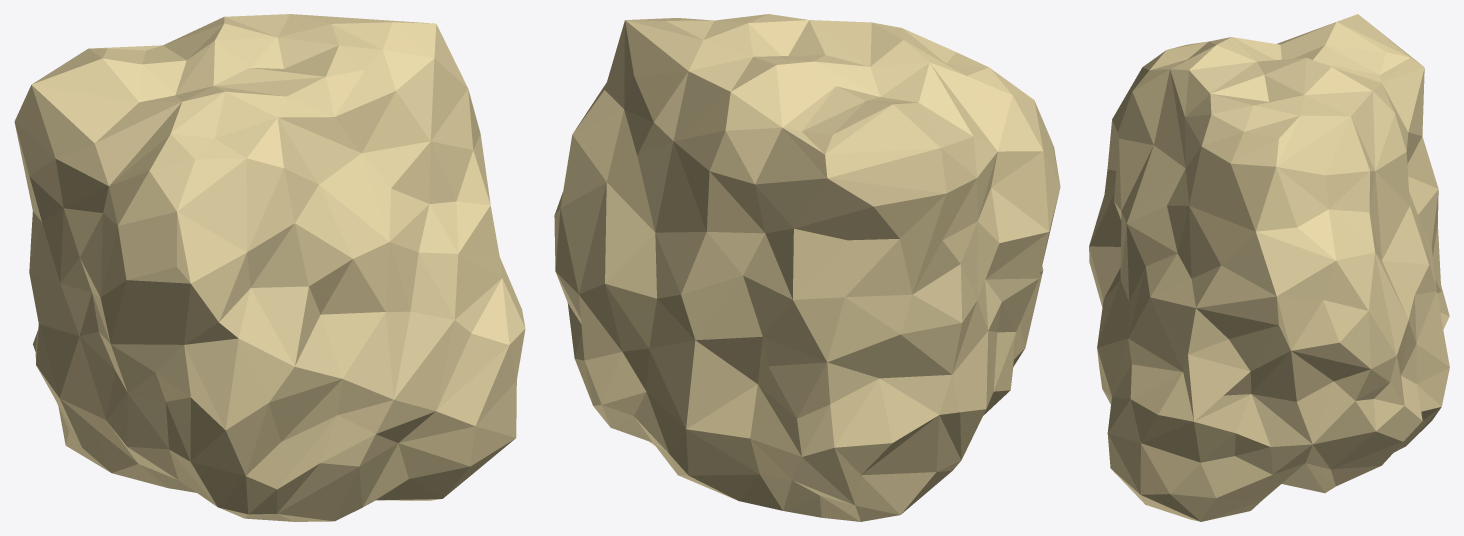
Rendered from Asteroid (34).fbx.
3 views of the same model, side by side, from view 1: azimuth 30°, elevation 25°; view 2: azimuth 150°, elevation 25°; view 3: azimuth 270°, elevation 25° (orthographic). The views are drawn at different scales.
Parts seen in each view (by area): view 1: Asteroid157; view 2: Asteroid157; view 3: Asteroid157.
Boxes of the visible parts, <box> form: Asteroid157: <box>14,14,525,521</box>; Asteroid157: <box>554,14,1060,521</box>; Asteroid157: <box>1089,14,1449,521</box>.
Size of the model in its own units: 350 by 343 by 285.
